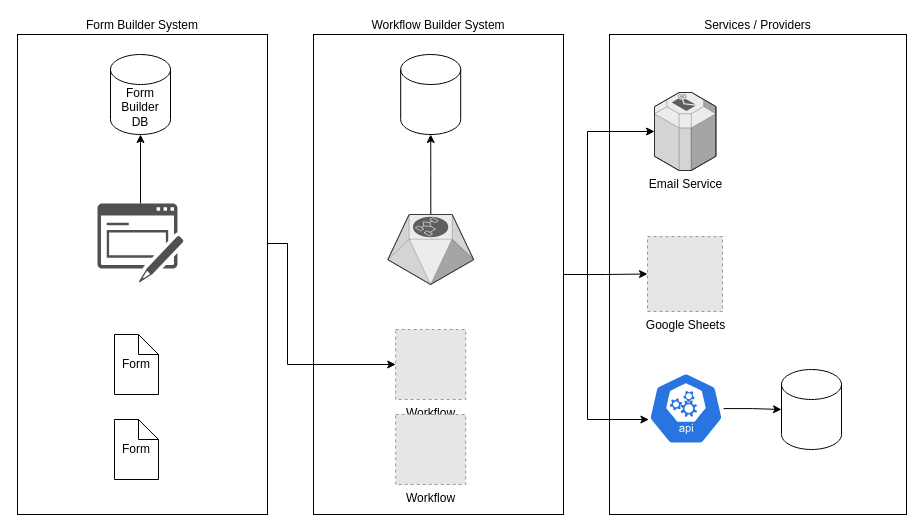
Some shapes in this 924 by 532 pixel diagram are drawn without their labels. Grey dashed boxes stand in for pictures. The centre of each missing label's shape, as x and y in pixels:
Form Builder: point 140,242
Nognio: point 686,408
Nognio DB: point 811,409
Workflow Builder: point 430,249
Workflow Builder DB: point 430,94
